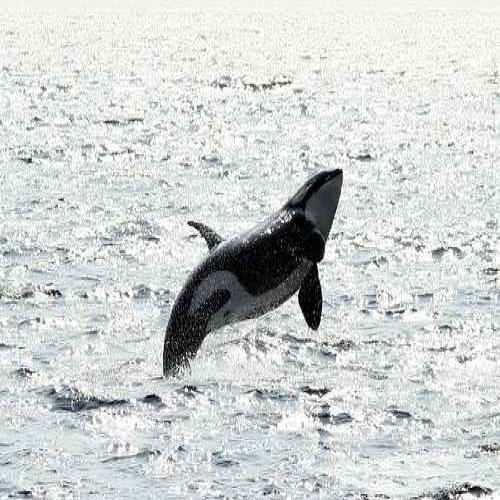killer_whale-endangered: (152, 158, 348, 381)
